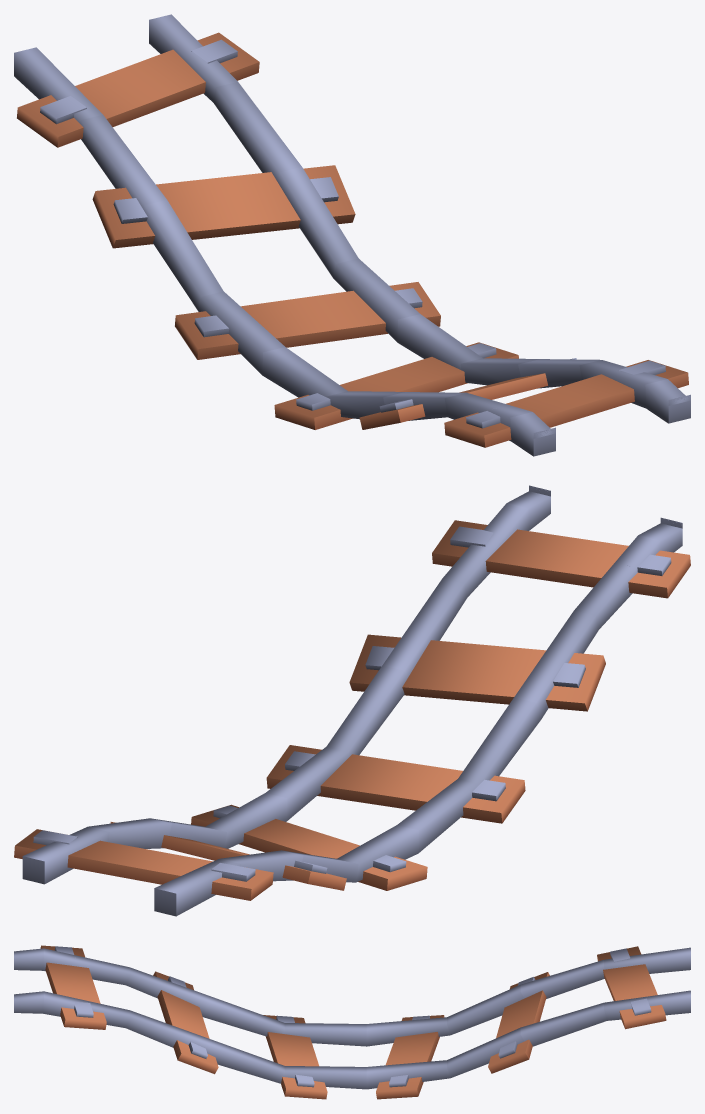
Rendered from railroad-damaged-straight-bump-down.glb.
The picture shows the model from 3 angles, top to bottom: view 1: azimuth 30°, elevation 25°; view 2: azimuth 150°, elevation 25°; view 3: azimuth 270°, elevation 25°; orthographic projection. The views are drawn at different scales.
Parts seen in each view (by area): view 1: railroad-damaged-straight-bump-down; view 2: railroad-damaged-straight-bump-down; view 3: railroad-damaged-straight-bump-down.
Part boxes in pixels (box(x1,y1,x2,y2)): railroad-damaged-straight-bump-down: box(14, 14, 690, 456); railroad-damaged-straight-bump-down: box(14, 485, 690, 916); railroad-damaged-straight-bump-down: box(14, 945, 690, 1099).
Size of the model in its own units: 1.03 by 0.6062 by 4.
